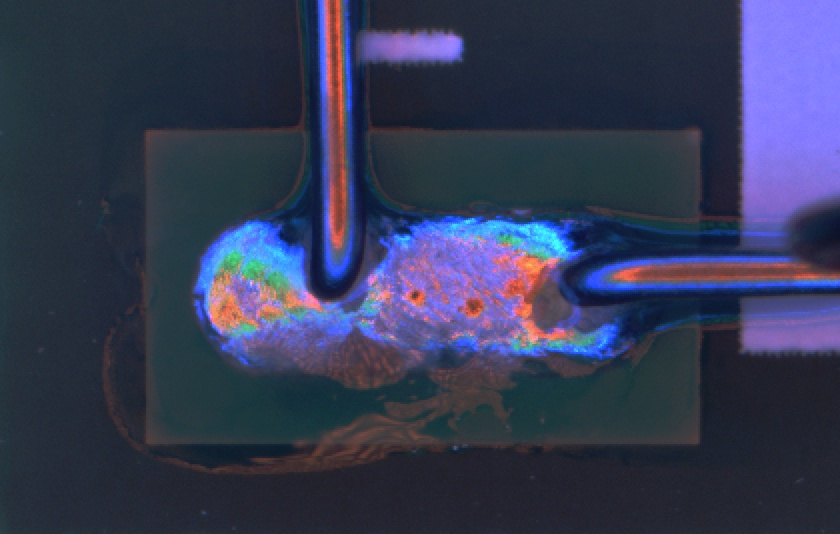spring: (566, 227, 840, 316), (297, 1, 369, 310)
spring_pin: (194, 214, 642, 358)
